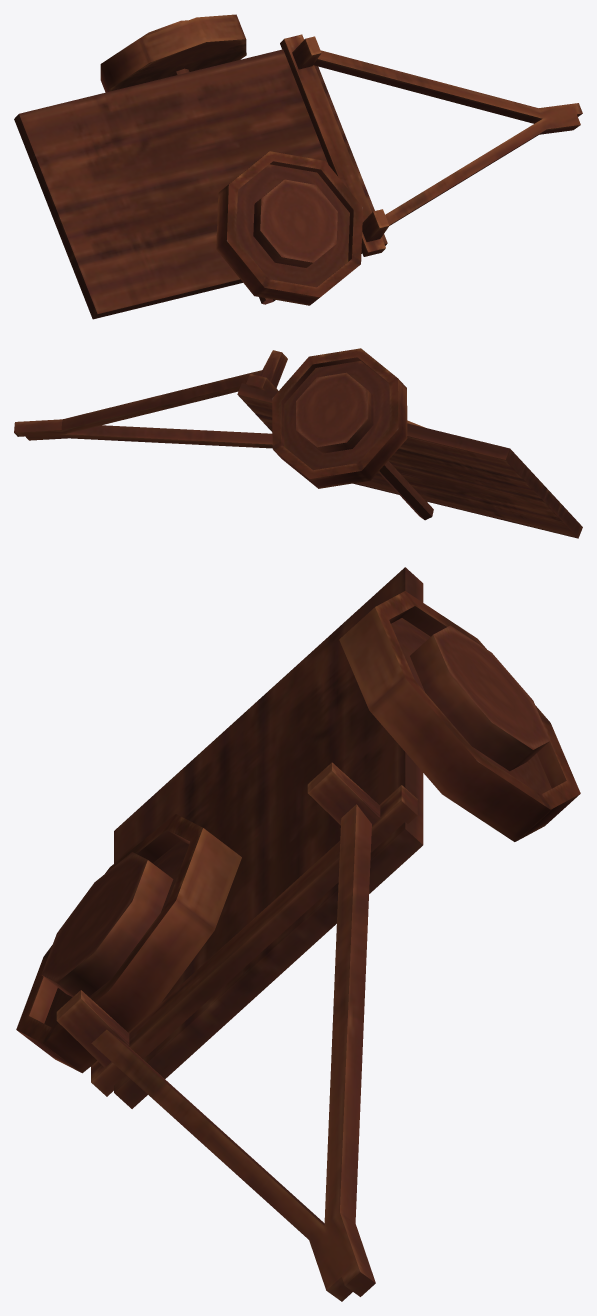
Rendered from Stage_01_01_ShouTuiChe02.FBX.
3 renders of one model, top to bottom at view 1: azimuth 30°, elevation 25°; view 2: azimuth 150°, elevation 25°; view 3: azimuth 270°, elevation 25°, orthographic. The views are drawn at different scales.
Visible parts, largest first — view 1: Stage_01_01_ShouTuiChe02; view 2: Stage_01_01_ShouTuiChe02; view 3: Stage_01_01_ShouTuiChe02.
Part boxes in pixels (x1,y1,x2,y2): Stage_01_01_ShouTuiChe02: [14, 14, 582, 319]; Stage_01_01_ShouTuiChe02: [14, 348, 582, 538]; Stage_01_01_ShouTuiChe02: [16, 567, 580, 1301].
Bounding box in the file's own units: 622 × 257 × 300.
